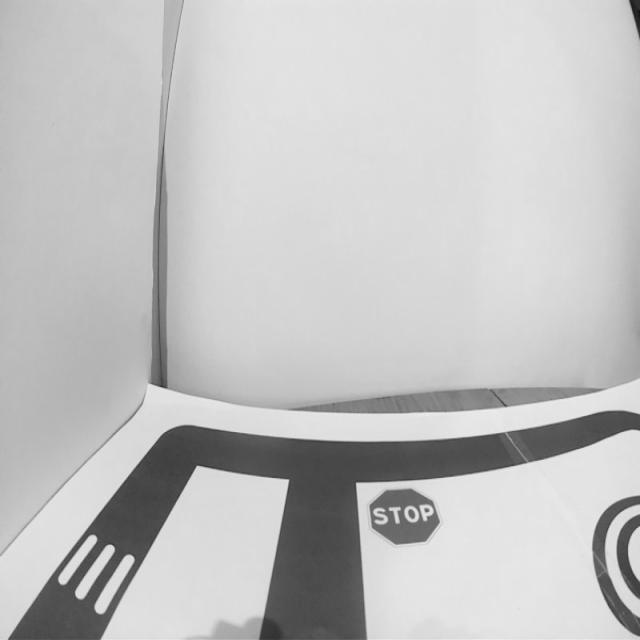lineStraight: (250, 516, 378, 640)
